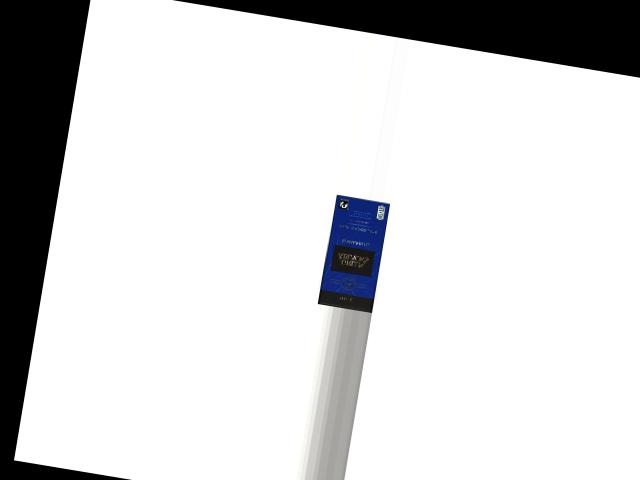chocolate: (317, 196, 391, 313)
